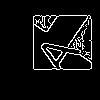A: (25, 25, 82, 79)
